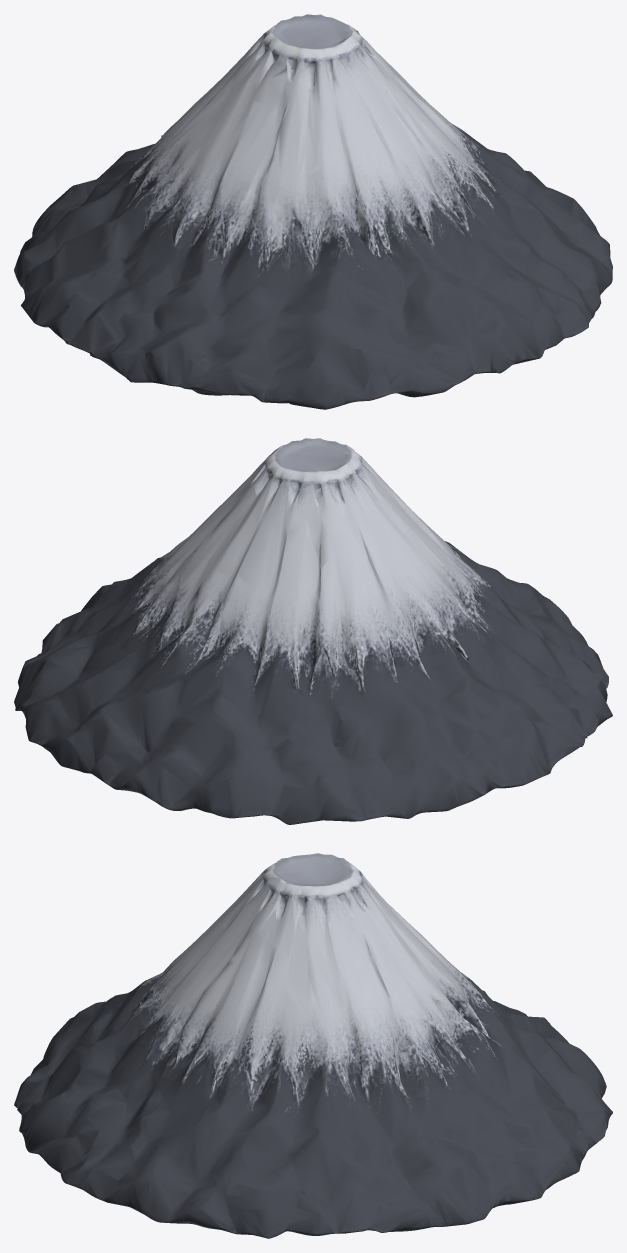
File: isluga.glb
3 views of the same model, one above another, from view 1: azimuth 30°, elevation 25°; view 2: azimuth 150°, elevation 25°; view 3: azimuth 270°, elevation 25° (orthographic).
Visible parts, largest first — view 1: isluga; view 2: isluga; view 3: isluga.
Part boxes in pixels (x1,y1,x2,y2): isluga: (14,14,612,409); isluga: (14,438,612,824); isluga: (14,853,612,1238).
Size of what is drawn, in the model's own units: 59.9 by 28.06 by 60.01.
Materials: 1 (1 with a texture image).
